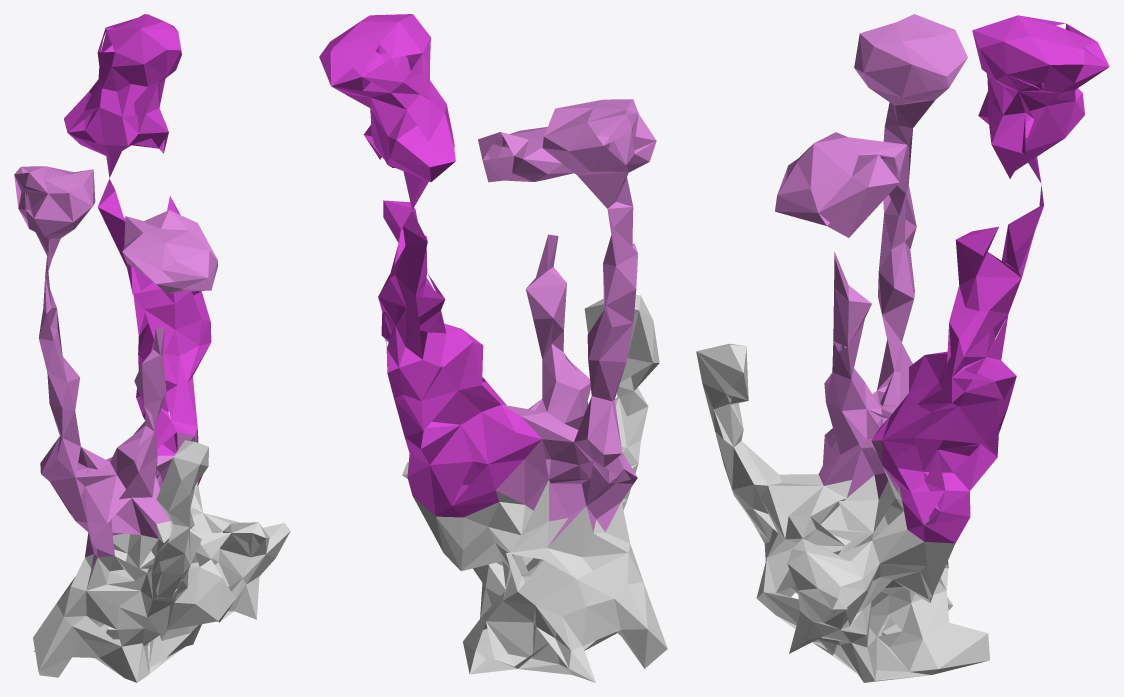
Rendered from vegetationwind.fbx.
3 renders of one model, left to right at view 1: azimuth 30°, elevation 25°; view 2: azimuth 150°, elevation 25°; view 3: azimuth 270°, elevation 25°, orthographic. The views are drawn at different scales.
Visible parts, largest first — view 1: vegetation_downsampled.001; view 2: vegetation_downsampled.001; view 3: vegetation_downsampled.001.
Part boxes in pixels (x1,y1,x2,y2): vegetation_downsampled.001: (14, 14, 290, 682); vegetation_downsampled.001: (319, 14, 667, 682); vegetation_downsampled.001: (696, 14, 1109, 682).
Bounding box in the file's own units: 29.34 × 66.09 × 36.64.
